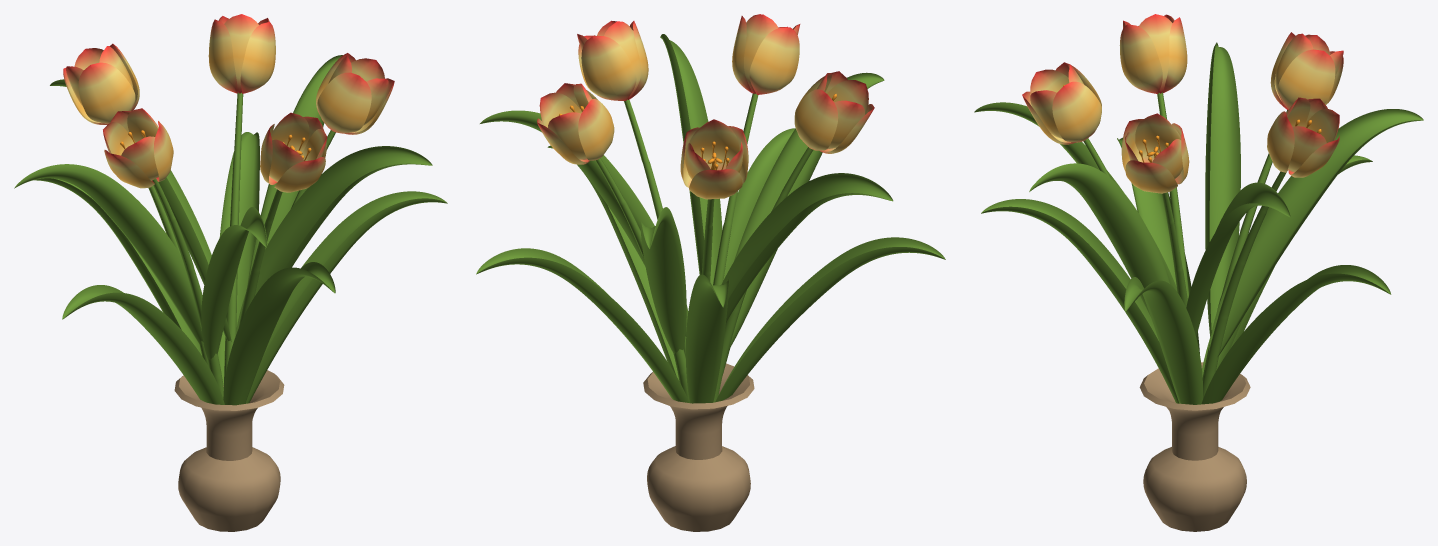
The model's file is tulips.glb.
3 renders of one model, left to right at view 1: azimuth 30°, elevation 25°; view 2: azimuth 150°, elevation 25°; view 3: azimuth 270°, elevation 25°, orthographic.
Visible parts, largest first — view 1: GrowFX01, Line01; view 2: GrowFX01, Line01; view 3: GrowFX01, Line01.
Part boxes in pixels (x1,y1,x2,y2): GrowFX01: (14,14,447,405); Line01: (174,370,284,531); GrowFX01: (476,14,945,403); Line01: (643,363,754,531); GrowFX01: (974,14,1423,404); Line01: (1139,362,1250,531).
Bounding box in the file's own units: 104 × 115 × 104.
4 materials, 1 textured.
